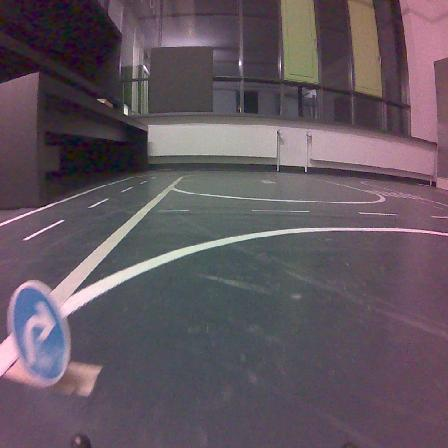RIGHT_TURN: (8, 280, 69, 385)
